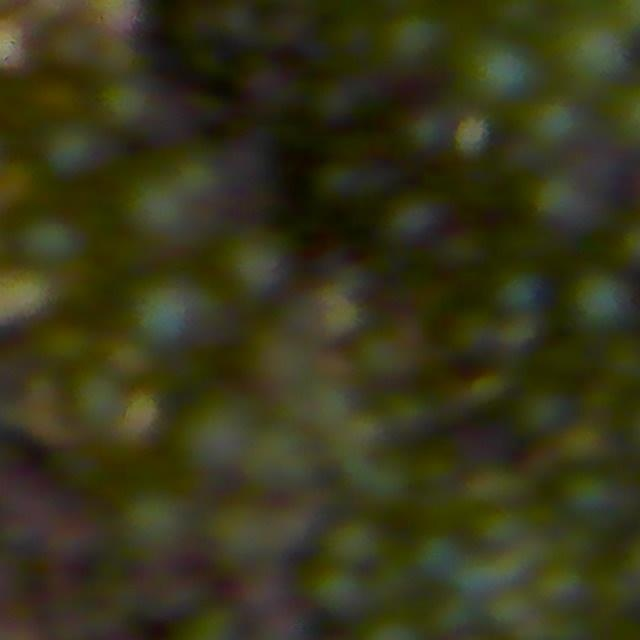SeaGrape: (122, 172, 210, 255), (177, 392, 259, 478), (208, 499, 295, 575), (131, 276, 216, 353), (117, 486, 196, 566), (555, 11, 633, 92), (243, 420, 320, 499), (463, 35, 537, 109), (222, 228, 293, 301), (531, 170, 607, 238), (561, 468, 638, 530), (246, 329, 315, 396), (568, 267, 636, 334), (379, 10, 449, 75), (313, 154, 387, 211), (522, 94, 588, 155), (42, 119, 108, 180), (97, 76, 159, 135), (19, 214, 82, 272), (70, 371, 127, 430), (325, 517, 385, 571), (514, 387, 572, 438), (313, 566, 368, 619), (492, 268, 546, 320), (38, 321, 92, 370), (0, 158, 40, 213), (602, 336, 640, 391)
